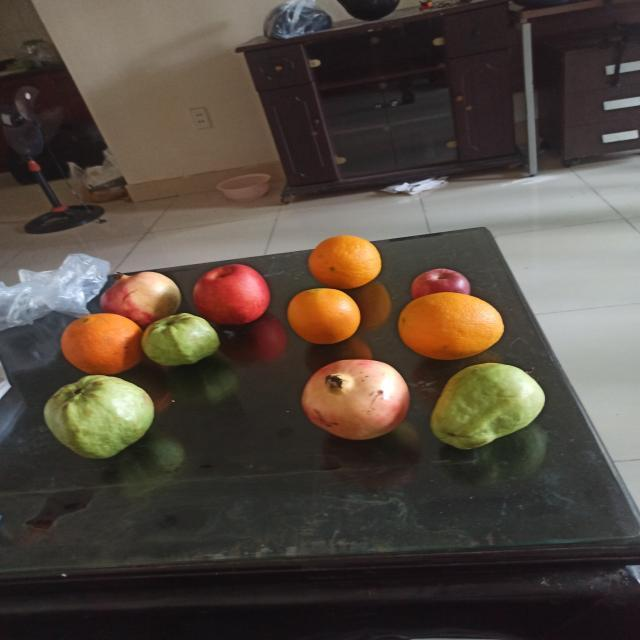apple: (192, 263, 270, 326), (412, 269, 472, 304)
